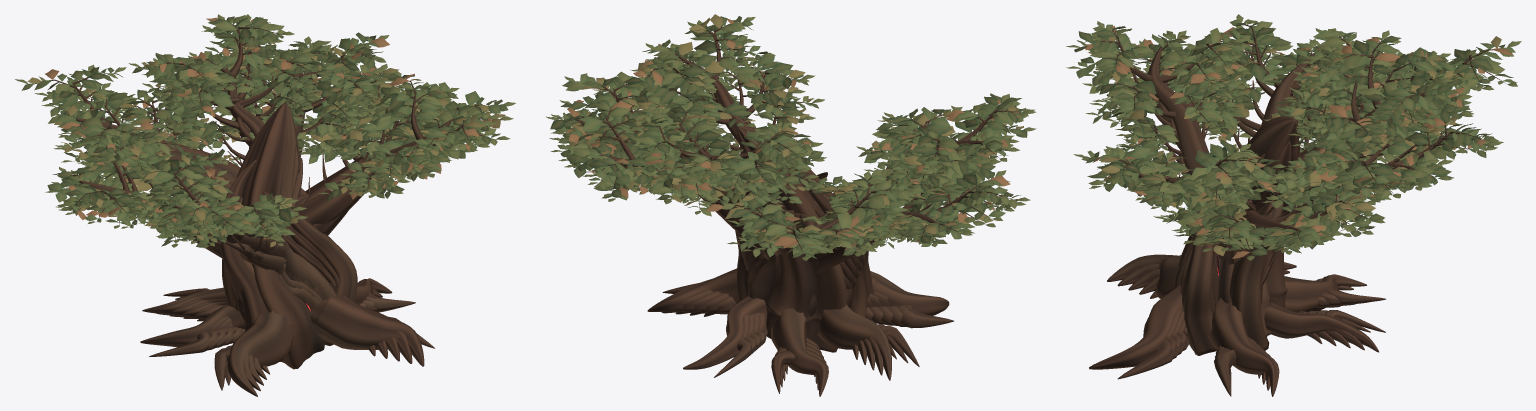
File: garden_heart.glb
The picture shows the model from 3 angles, left to right: view 1: azimuth 30°, elevation 25°; view 2: azimuth 150°, elevation 25°; view 3: azimuth 270°, elevation 25°; orthographic projection. The views are drawn at different scales.
Visible parts, largest first — view 1: HeartStage5, HeartStage4, HeartStage3, HeartStage2, HeartStage1; view 2: HeartStage5, HeartStage4, HeartStage3, HeartStage1, HeartStage2; view 3: HeartStage5, HeartStage4, HeartStage3, HeartStage2.
Part boxes in pixels (x1,y1,x2,y2): HeartStage5: (15,14,515,396); HeartStage4: (51,38,457,391); HeartStage3: (89,88,399,385); HeartStage2: (183,151,387,379); HeartStage1: (197,239,375,374); HeartStage5: (546,14,1036,396); HeartStage4: (566,65,1019,390); HeartStage3: (675,139,967,383); HeartStage1: (704,241,877,359); HeartStage2: (690,191,887,376); HeartStage5: (1066,14,1521,396); HeartStage4: (1085,33,1473,390); HeartStage3: (1117,79,1382,384); HeartStage2: (1139,124,1340,378).
Size of the model in its own units: 12.88 by 7.02 by 10.32.
